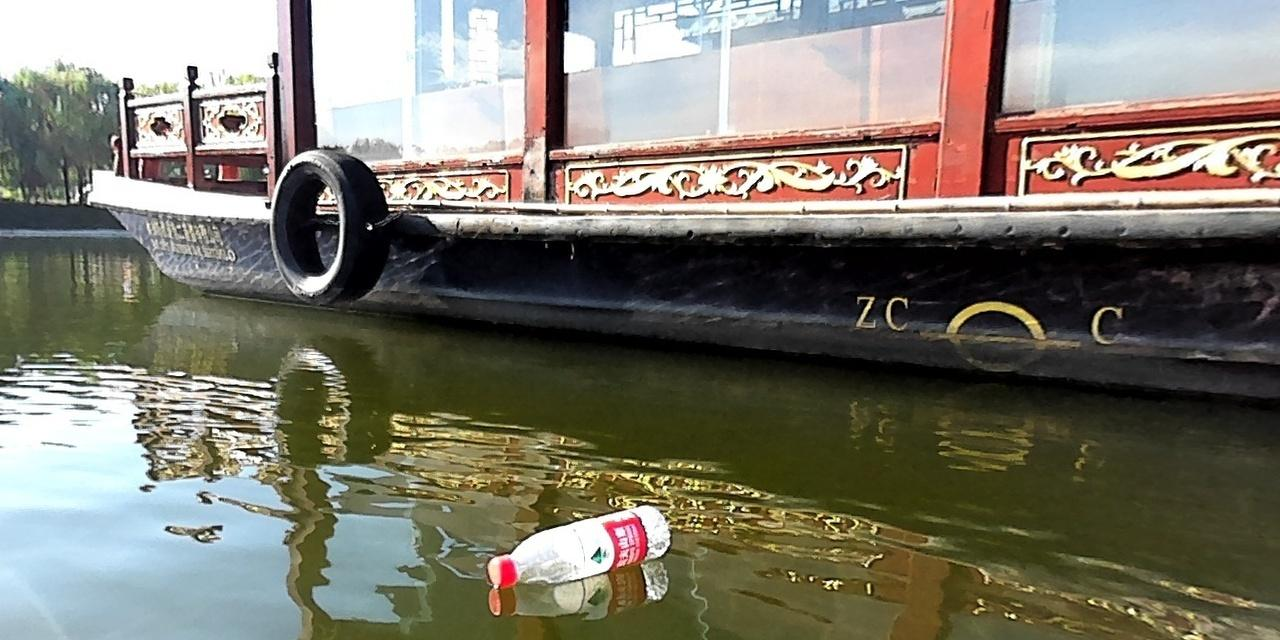bottle: (485, 503, 671, 585)
